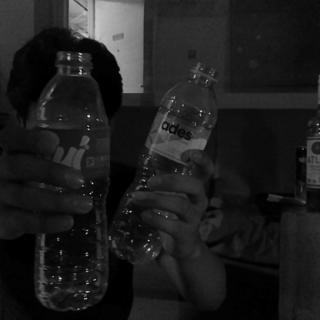plastic_bottles: (107, 62, 220, 266), (34, 47, 109, 310)
